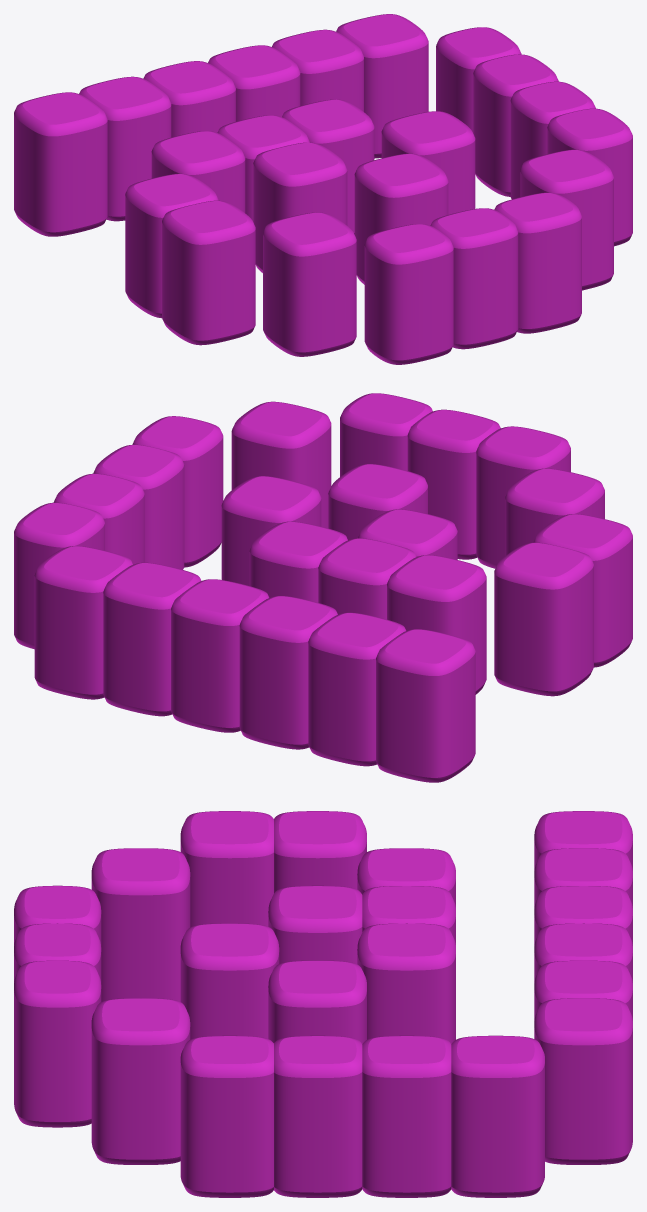
Rendered from AtSign.fbx.
3 renders of one model, top to bottom at view 1: azimuth 30°, elevation 25°; view 2: azimuth 150°, elevation 25°; view 3: azimuth 270°, elevation 25°, orthographic. The views are drawn at different scales.
Visible parts, largest first — view 1: AtSign; view 2: AtSign; view 3: AtSign.
Part boxes in pixels (x1,y1,x2,y2): AtSign: [14, 14, 632, 364]; AtSign: [14, 393, 632, 782]; AtSign: [14, 811, 632, 1197].
Bounding box in the file's own units: 0.5883 × 0.14 × 0.5883.
